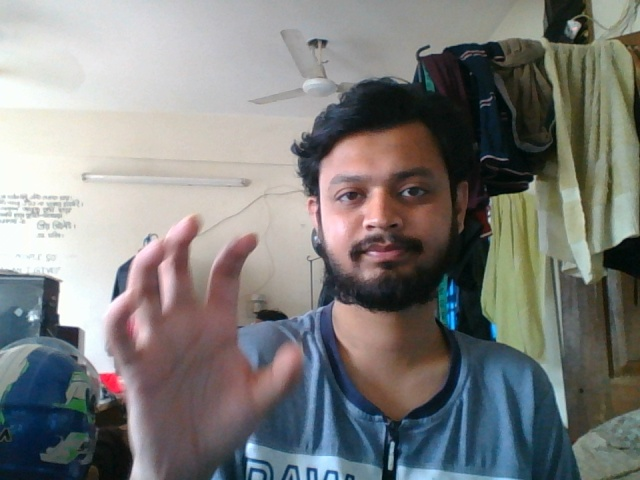ja: (93, 210, 307, 466)
